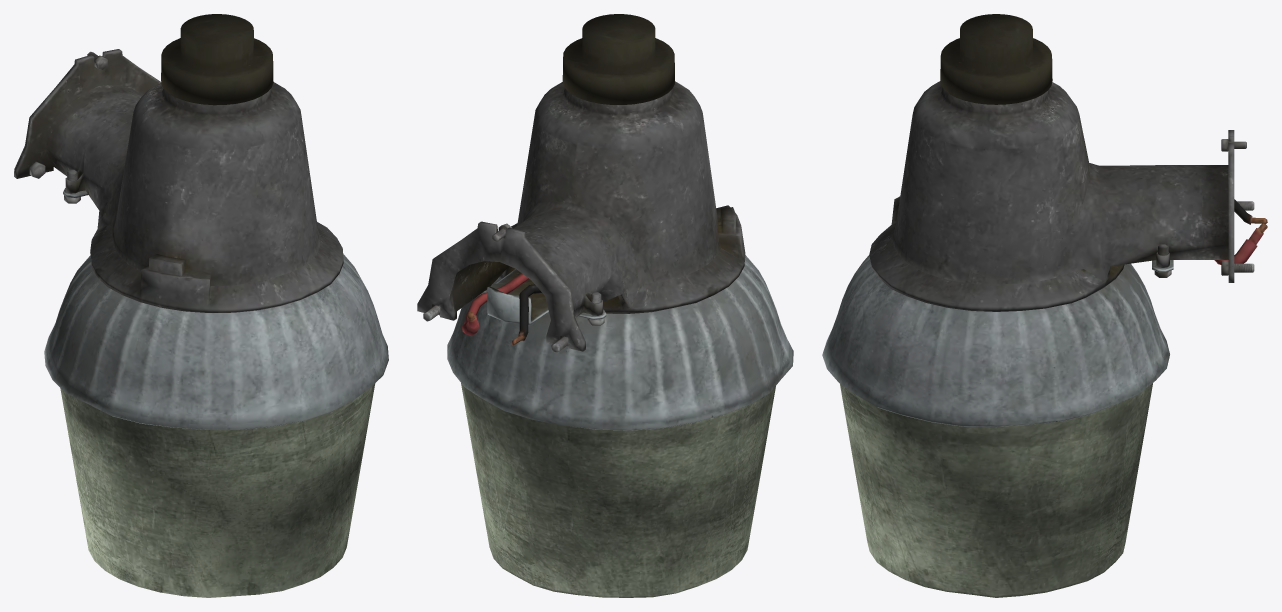
Rendered from security_light.gltf.
3 views of the same model, side by side, from view 1: azimuth 30°, elevation 25°; view 2: azimuth 150°, elevation 25°; view 3: azimuth 270°, elevation 25° (orthographic).
Visible parts, largest first — view 1: security_light, security_light_glass; view 2: security_light, security_light_glass; view 3: security_light, security_light_glass.
Part boxes in pixels (box(x1,y1,x2,y2)): security_light: box(14, 14, 388, 429); security_light_glass: box(60, 383, 375, 597); security_light: box(417, 14, 793, 430); security_light_glass: box(461, 383, 775, 597); security_light: box(822, 14, 1267, 426); security_light_glass: box(840, 383, 1152, 597).
Bounding box in the file's own units: 0.3231 × 0.531 × 0.4172.
Materials: 3 (3 with a texture image).
